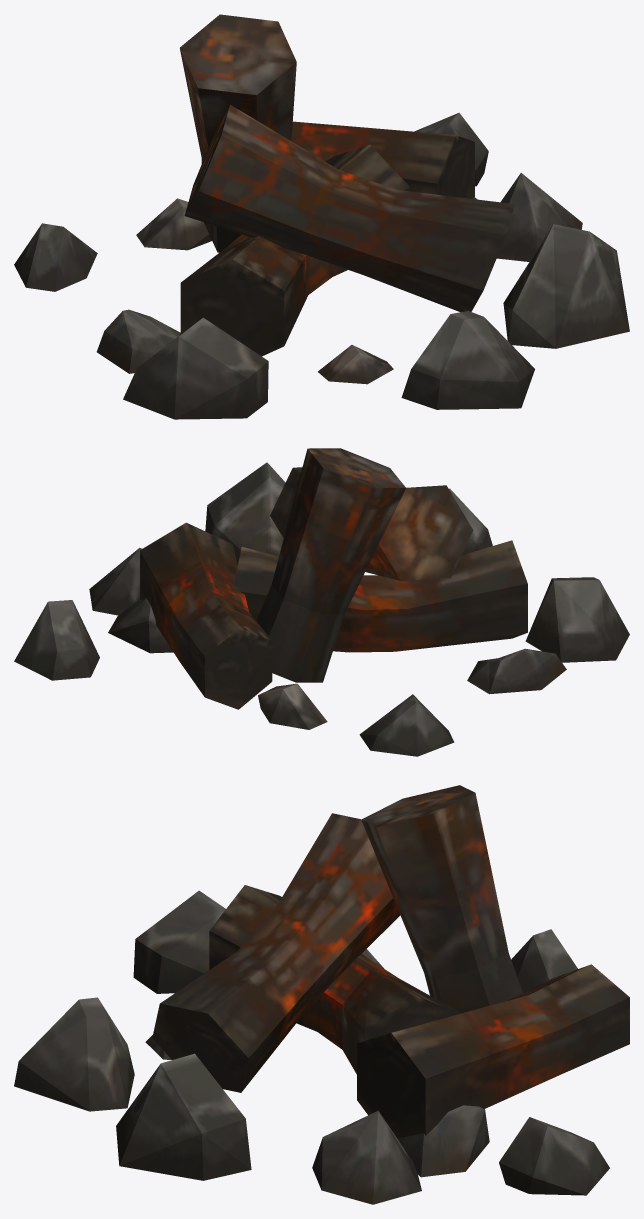
Rendered from campfire_03.fbx.
The picture shows the model from 3 angles, top to bottom: view 1: azimuth 30°, elevation 25°; view 2: azimuth 150°, elevation 25°; view 3: azimuth 270°, elevation 25°; orthographic projection. The views are drawn at different scales.
Parts seen in each view (by area): view 1: obj0.275; view 2: obj0.275; view 3: obj0.275.
Part boxes in pixels (box(x1,y1,x2,y2)): obj0.275: box(14, 14, 629, 419); obj0.275: box(14, 448, 629, 756); obj0.275: box(14, 785, 629, 1204).
Size of the model in its own units: 2.71 by 1.23 by 2.68.
